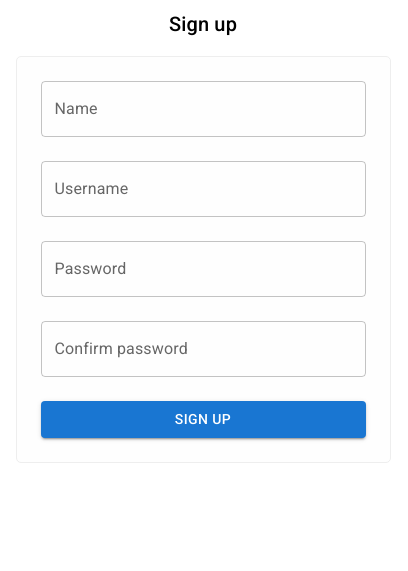
Sign up form component › should show required errors on field when submitting with empty form
What coordinates should you click on to do the following:
click the button "Sign up"
I would click on:
 (203, 419)
Its box is [40,401,366,438].
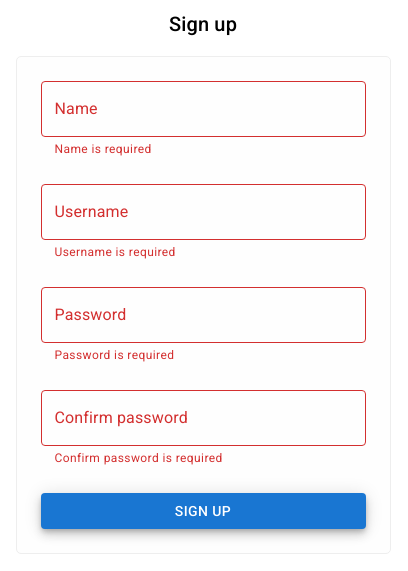
Check: the text "Name is required" is shown 4 times, box [54,142,152,156]; [54,245,176,259]; [54,348,174,362]; [54,451,223,465]
